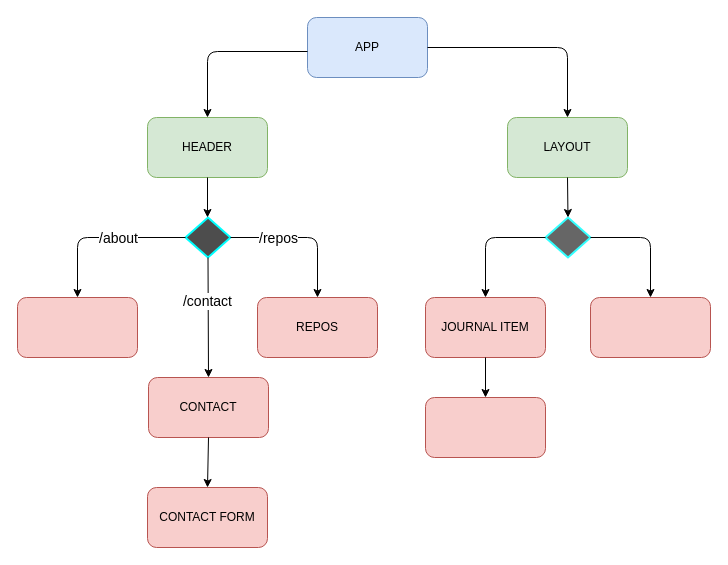
Some shapes in this 728 by 565 pixel diagram are drawn without their labels. Here are the shapes that lost their labels. From the top down, the centre of each, then its label:
At point 77,327: "ABOUT".
At point 650,327: "JOURNAL FORM".
At point 485,427: "JOURNAL LIST".
